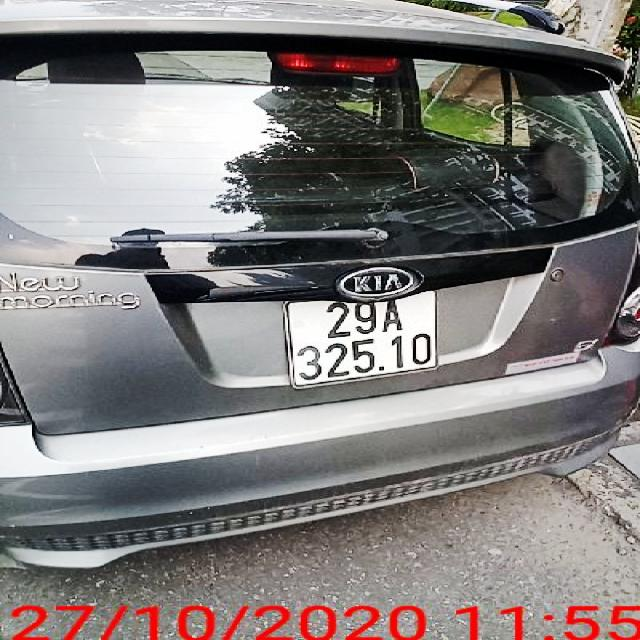license_plate: (289, 291, 439, 389)
